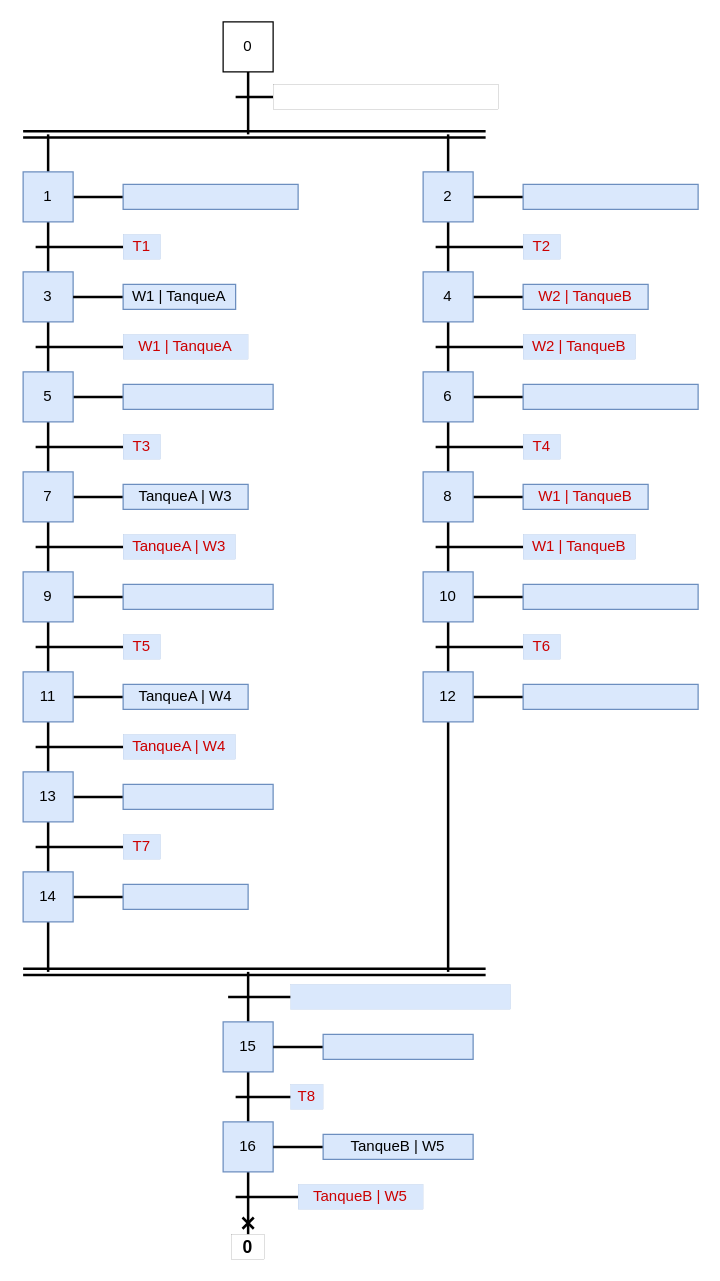
Some shapes in this 720 by 1281 pixel diagram are drawn without their labels. The centre of each missing label's shape, as x and y in pixels:
MARCHA | W1 | W2 | W3 | W5: [385,96]
T1 | W1 | TanqueA: [210,196]
T2 | W2 | TanqueB: [610,196]
Tanque A | TanqueB | W5 | W3: [400,996]
TanqueA | W3 | T3: [197,396]
TanqueA | W4 | T5: [197,596]
TanqueA | W5: [185,896]
TanqueA | W5 | T7: [197,796]
TanqueB | T8 | W5: [397,1046]
TanqueB | W3: [610,696]
TanqueB | W3 | T6: [610,596]
W1 | TanqueB | T4: [610,396]
